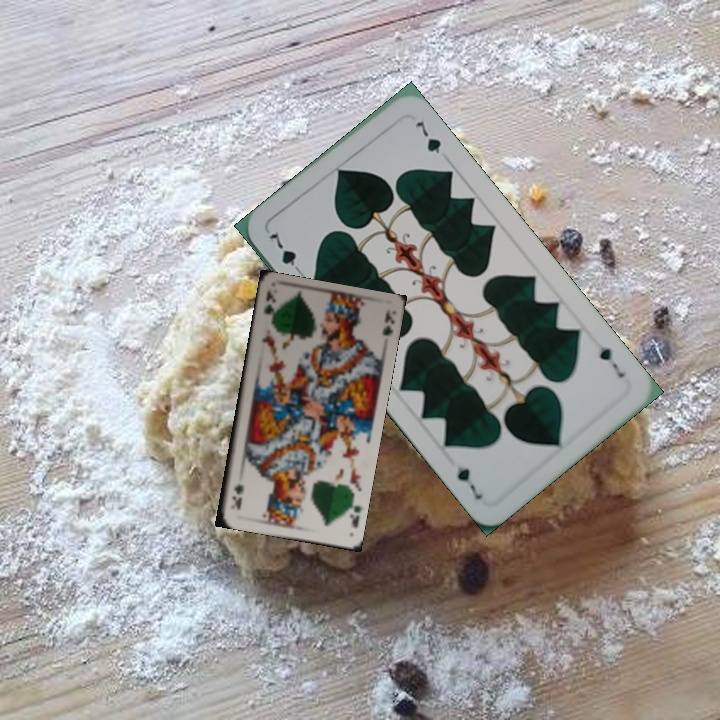G7: (265, 227, 306, 279), (592, 337, 628, 381)
GK: (343, 493, 364, 531), (260, 286, 278, 327)
